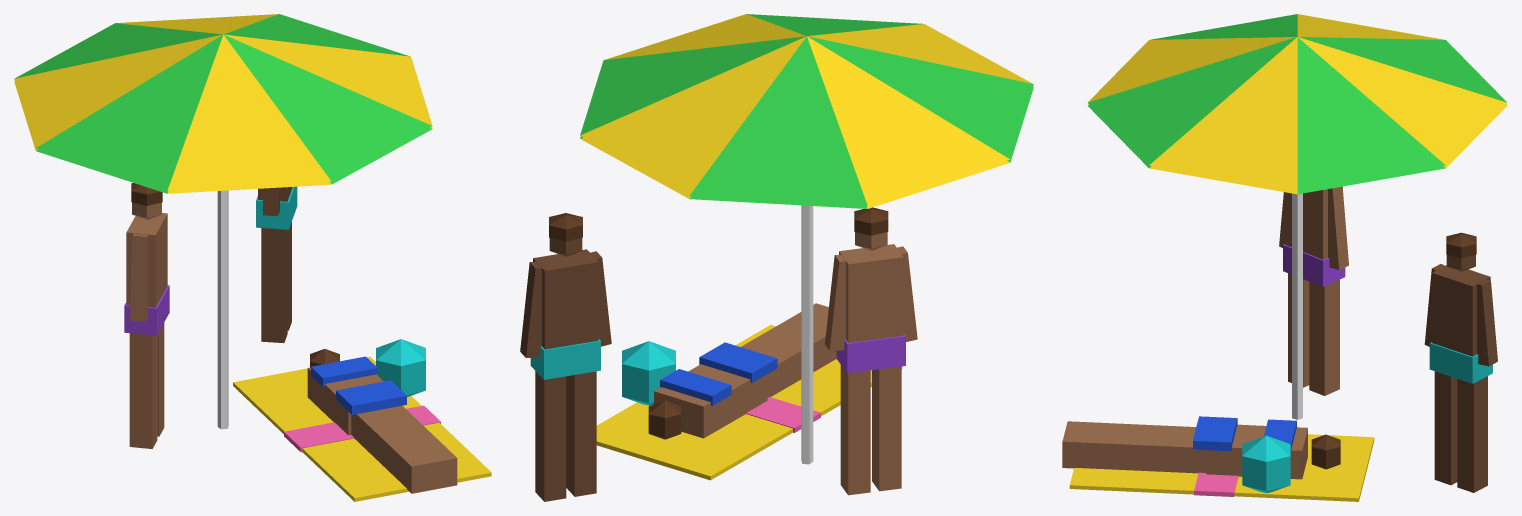
Rendered from playa_grupo_0.obj.
3 renders of one model, left to right at view 1: azimuth 30°, elevation 25°; view 2: azimuth 150°, elevation 25°; view 3: azimuth 270°, elevation 25°, orthographic. The views are drawn at different scales.
Parts seen in each view (by area): view 1: playa_grupo_0; view 2: playa_grupo_0; view 3: playa_grupo_0.
Boxes of the visible parts, x1=… form: playa_grupo_0: x1=14, y1=14, x2=491, y2=501; playa_grupo_0: x1=520, y1=14, x2=1033, y2=501; playa_grupo_0: x1=1062, y1=14, x2=1507, y2=501.
Bounding box in the file's own units: 2.6 × 2.6 × 2.75.
